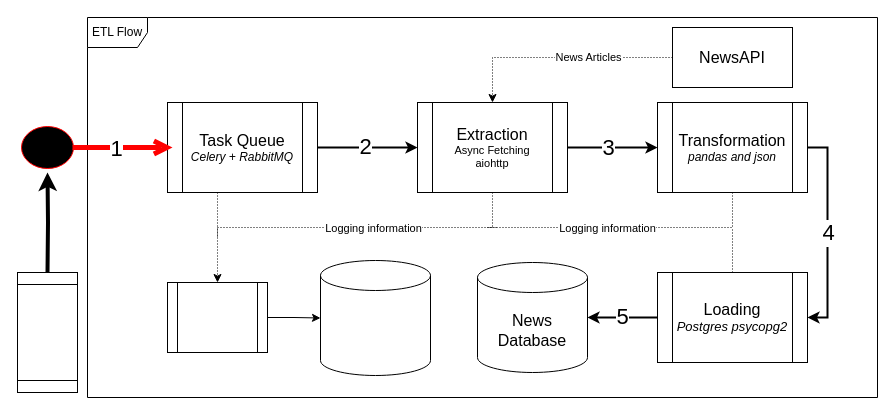
Some shapes in this 895 by 415 pixel diagram are drawn without their labels. The shapes that lost their labels are listed below. From the top down, each one's box as (x1, y1, x2, y2) in pixels, then its label:
(16, 272, 78, 392): Cron Job Scheduler
(166, 282, 268, 352): Logger logging
(320, 260, 430, 376): Loggs
